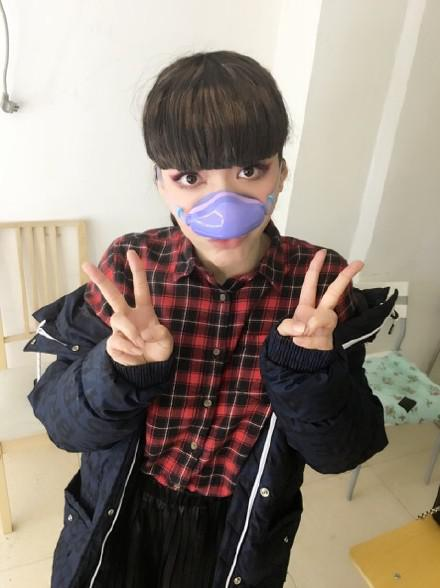WRONG: (163, 160, 276, 273)
